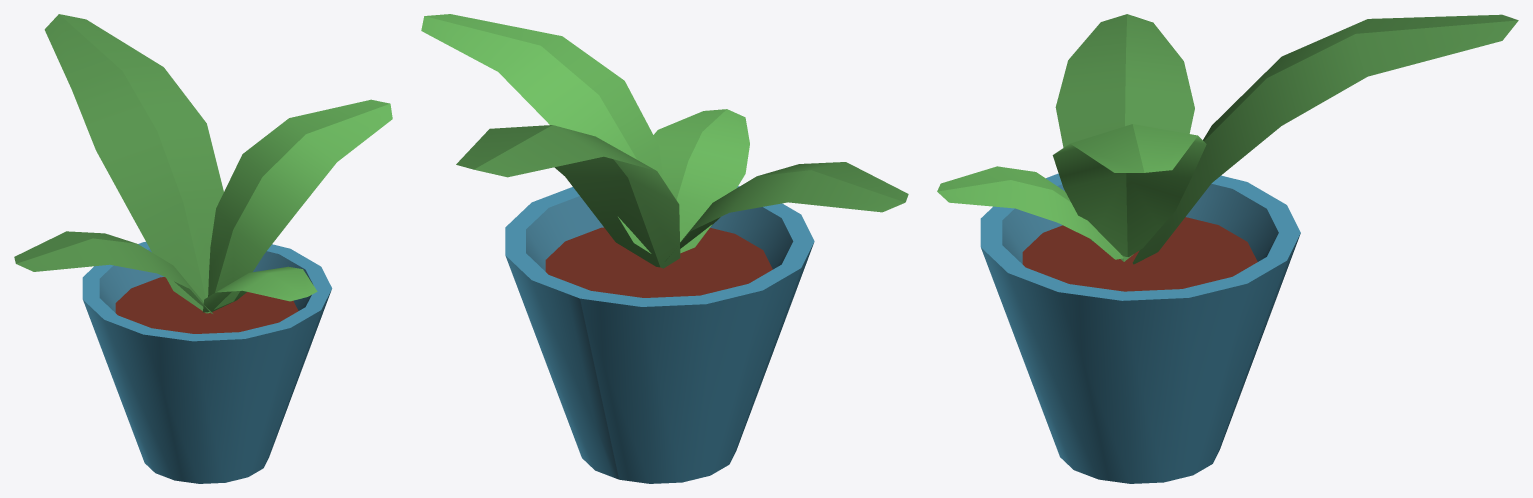
Rendered from Flower1.fbx.
The picture shows the model from 3 angles, left to right: view 1: azimuth 30°, elevation 25°; view 2: azimuth 150°, elevation 25°; view 3: azimuth 270°, elevation 25°; orthographic projection. The views are drawn at different scales.
Parts seen in each view (by area): view 1: Flower1; view 2: Flower1; view 3: Flower1.
Part boxes in pixels (x1,y1,x2,y2): Flower1: (14,14,392,483); Flower1: (421,14,908,483); Flower1: (937,14,1518,483).
Size of the model in its own units: 82.25 by 69.06 by 84.66.
